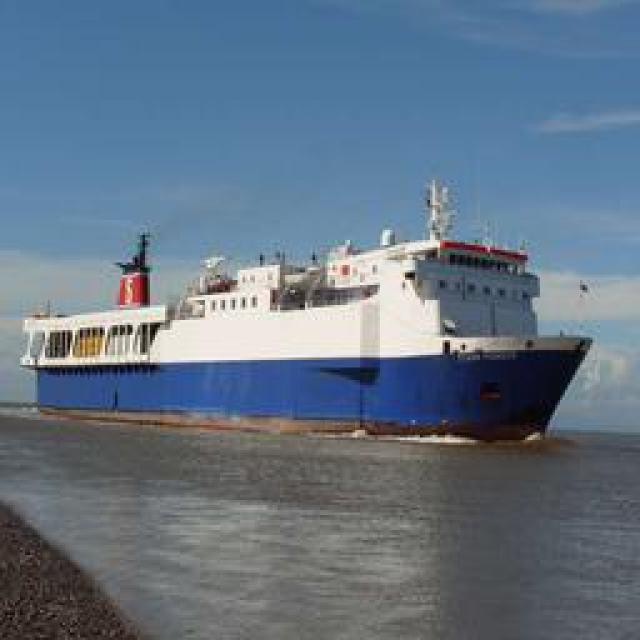Ship: (25, 221, 593, 441)
